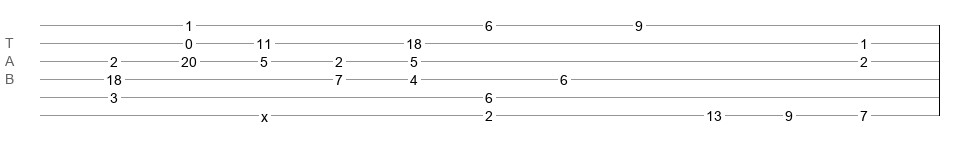0: (185, 36, 193, 46)
1: (185, 18, 193, 28), (860, 36, 868, 46)
11: (256, 36, 272, 46)
13: (706, 108, 722, 118)
18: (106, 72, 122, 82), (406, 36, 422, 46)
2: (110, 54, 118, 64), (335, 54, 343, 64), (485, 108, 493, 118), (860, 54, 868, 64)
20: (181, 54, 197, 64)
3: (110, 90, 118, 100)
4: (410, 72, 418, 82)
5: (260, 54, 268, 64), (410, 54, 418, 64)
6: (485, 18, 493, 28), (485, 90, 493, 100), (560, 72, 568, 82)
7: (335, 72, 343, 82), (860, 108, 868, 118)
9: (635, 18, 643, 28), (785, 108, 793, 118)
x: (261, 109, 268, 117)
